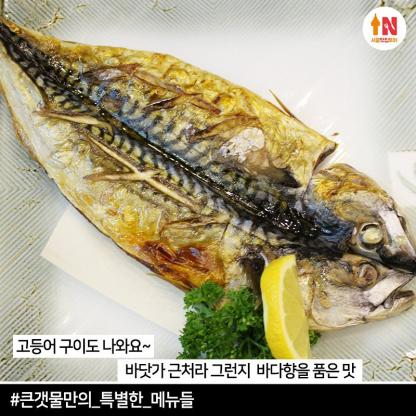Peixe: (0, 7, 416, 336)
